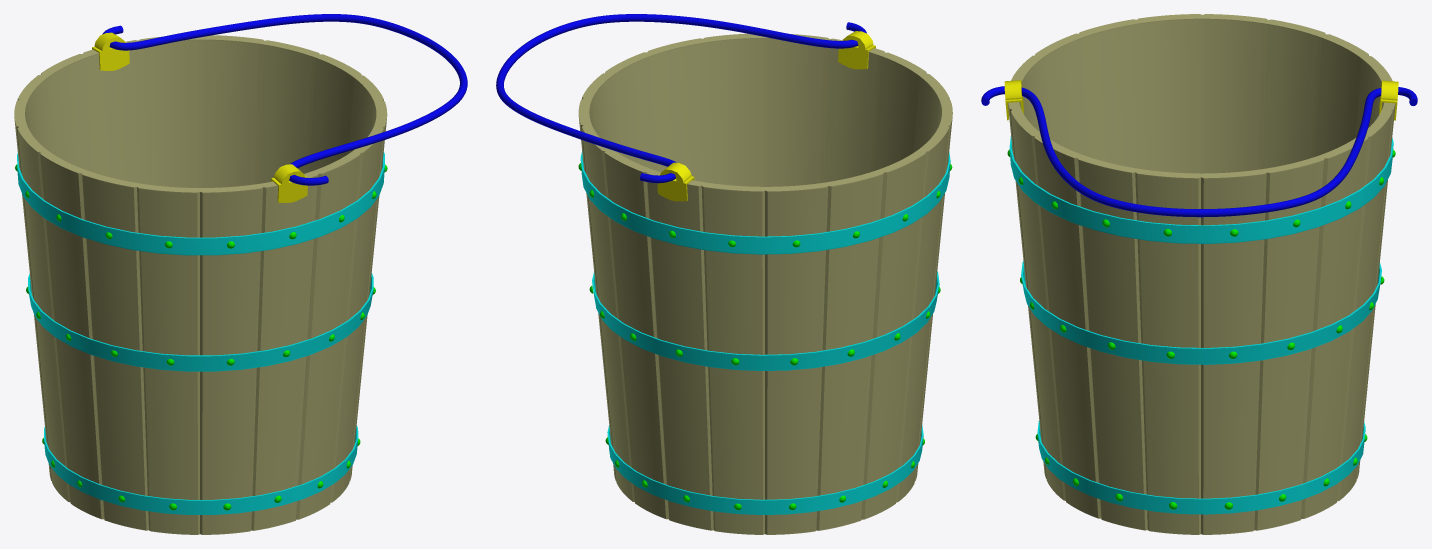
File: bucket.fbx
3 renders of one model, left to right at view 1: azimuth 30°, elevation 25°; view 2: azimuth 150°, elevation 25°; view 3: azimuth 270°, elevation 25°, orthographic. The views are drawn at different scales.
Visible parts, largest first — view 1: polySurface37, polySurface15, polySurface12, polySurface14, polySurface13; view 2: polySurface37, polySurface15, polySurface12, polySurface14, polySurface13; view 3: polySurface37, polySurface15, polySurface12, polySurface13, polySurface14.
Part boxes in pixels (x1=…): polySurface37: x1=14, y1=35, x2=387, y2=534; polySurface15: x1=17, y1=152, x2=384, y2=514; polySurface12: x1=102, y1=14, x2=467, y2=185; polySurface14: x1=92, y1=32, x2=307, y2=202; polySurface13: x1=15, y1=164, x2=387, y2=510; polySurface37: x1=578, y1=33, x2=952, y2=534; polySurface15: x1=580, y1=151, x2=950, y2=514; polySurface12: x1=496, y1=14, x2=866, y2=183; polySurface14: x1=657, y1=31, x2=875, y2=201; polySurface13: x1=578, y1=163, x2=952, y2=510; polySurface37: x1=1008, y1=14, x2=1395, y2=534; polySurface15: x1=1009, y1=136, x2=1393, y2=514; polySurface12: x1=981, y1=86, x2=1417, y2=217; polySurface13: x1=1007, y1=149, x2=1395, y2=509; polySurface14: x1=1004, y1=80, x2=1398, y2=120.
Bounding box in the file's own units: 2.67 × 2.33 × 2.39.
